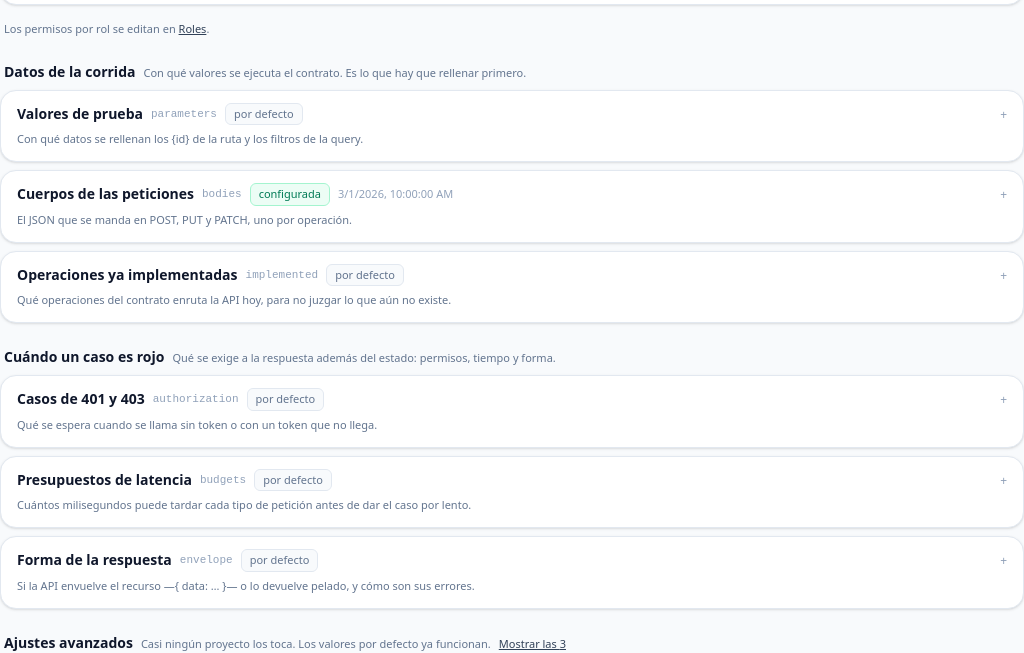
Test: ConfigPage: las secciones › agrupa las secciones y pliega el grupo avanzado mientras nada dentro esté configurado
(page scrolled)
Expected: the heading "Datos de la corrida" is shown, [4,62,136,82]
Expected: the heading "Cuándo un caso es rojo" is shown, [4,347,164,367]
Click the button "Mostrar las 3".
click(532, 644)  # box [499,636,566,652]
(page scrolled)
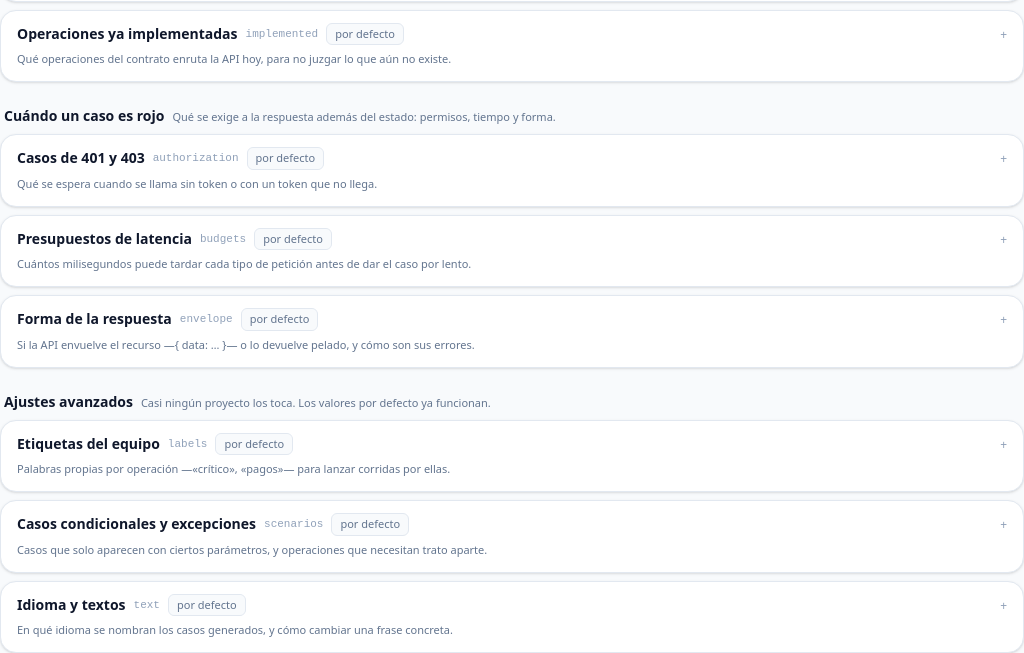
Expected: the text "Etiquetas del equipo" is shown, [17,434,160,454]
